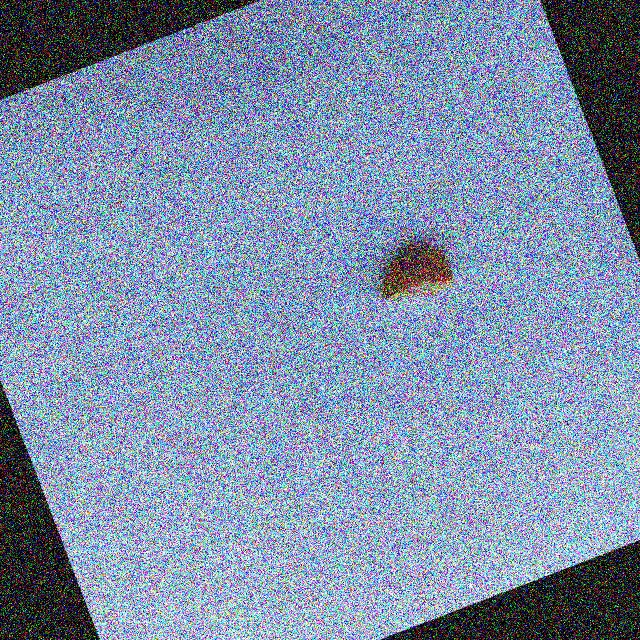grade4: (358, 228, 466, 319)
